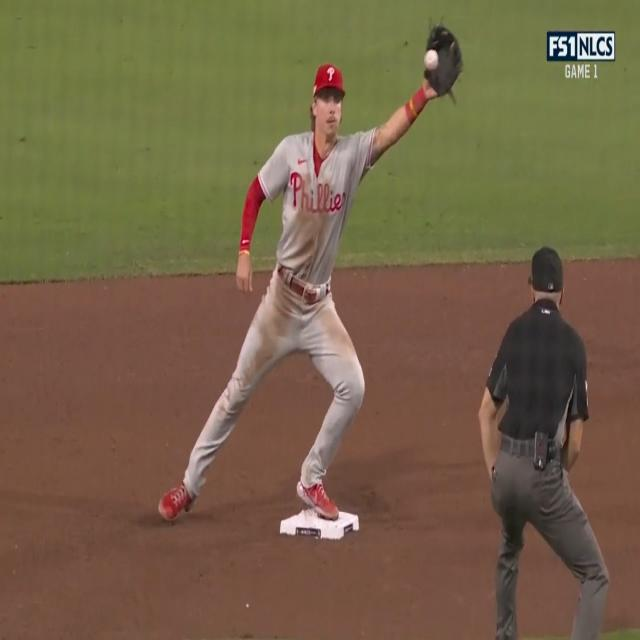baseball: (424, 48, 439, 70)
